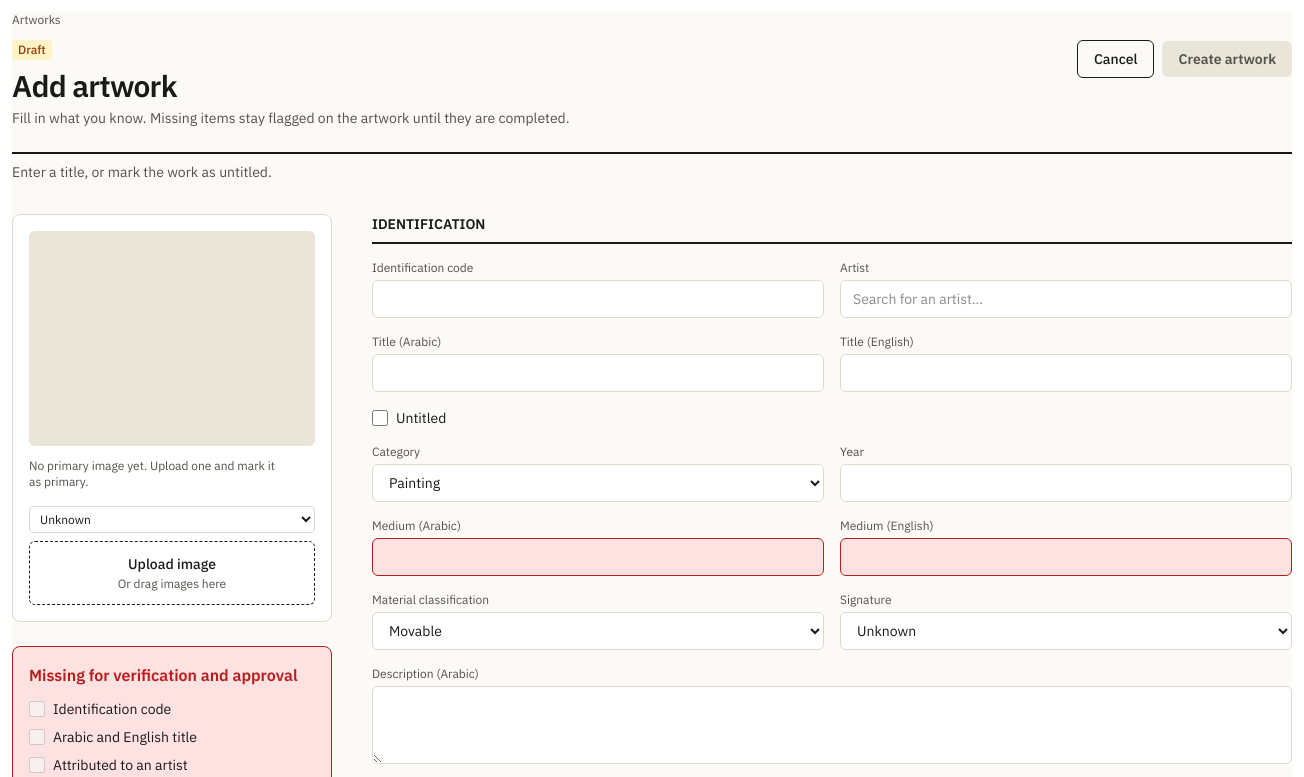
Scenario: ArtworkCreatePage › blocks submit until a title is given or the work is untitled
The width and height of the screenshot is (1304, 777).
expect the button with test id "create-submit" is disabled: met, box [1162,41,1292,77]
Click the checkbox with test id "untitled-input" at (380, 418), box [372,410,388,426]
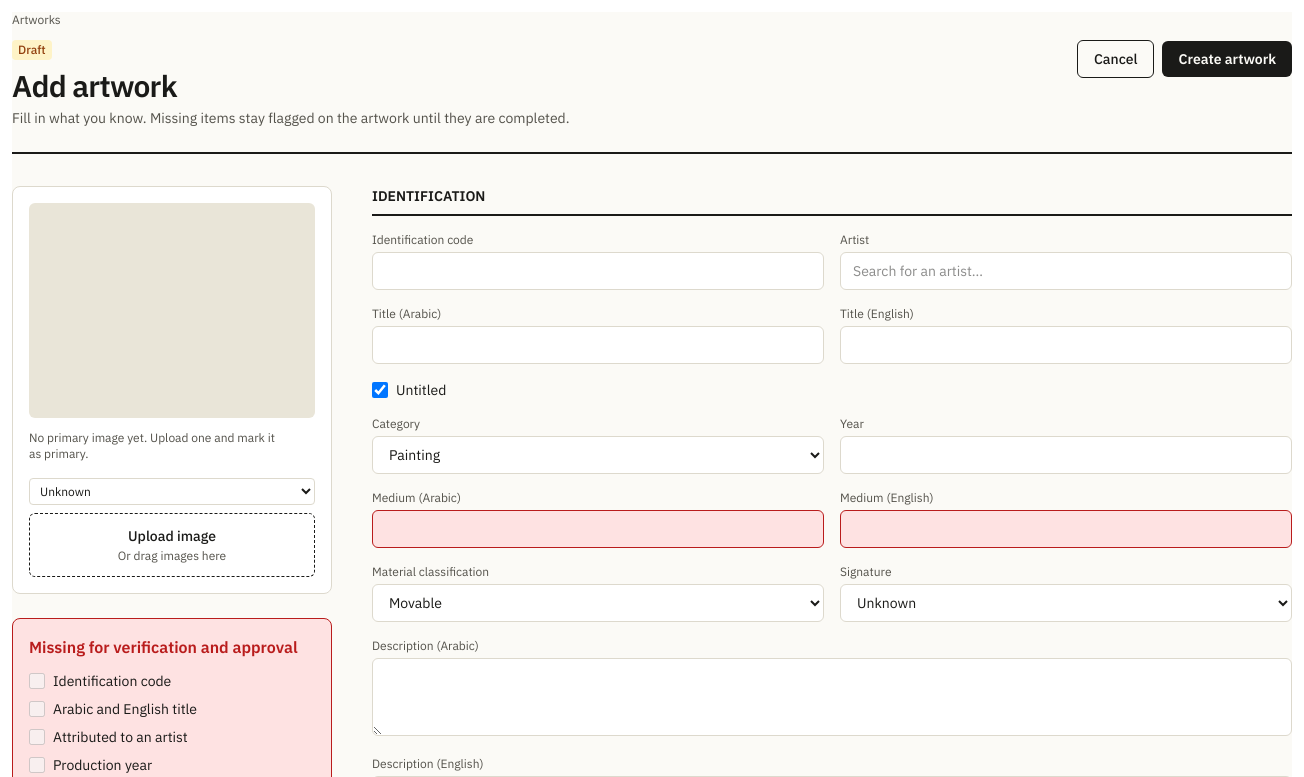
expect the button with test id "create-submit" is enabled: met, box [1162,41,1292,77]
